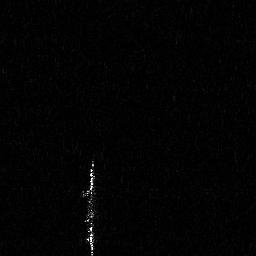ship: (81, 156, 99, 256)
